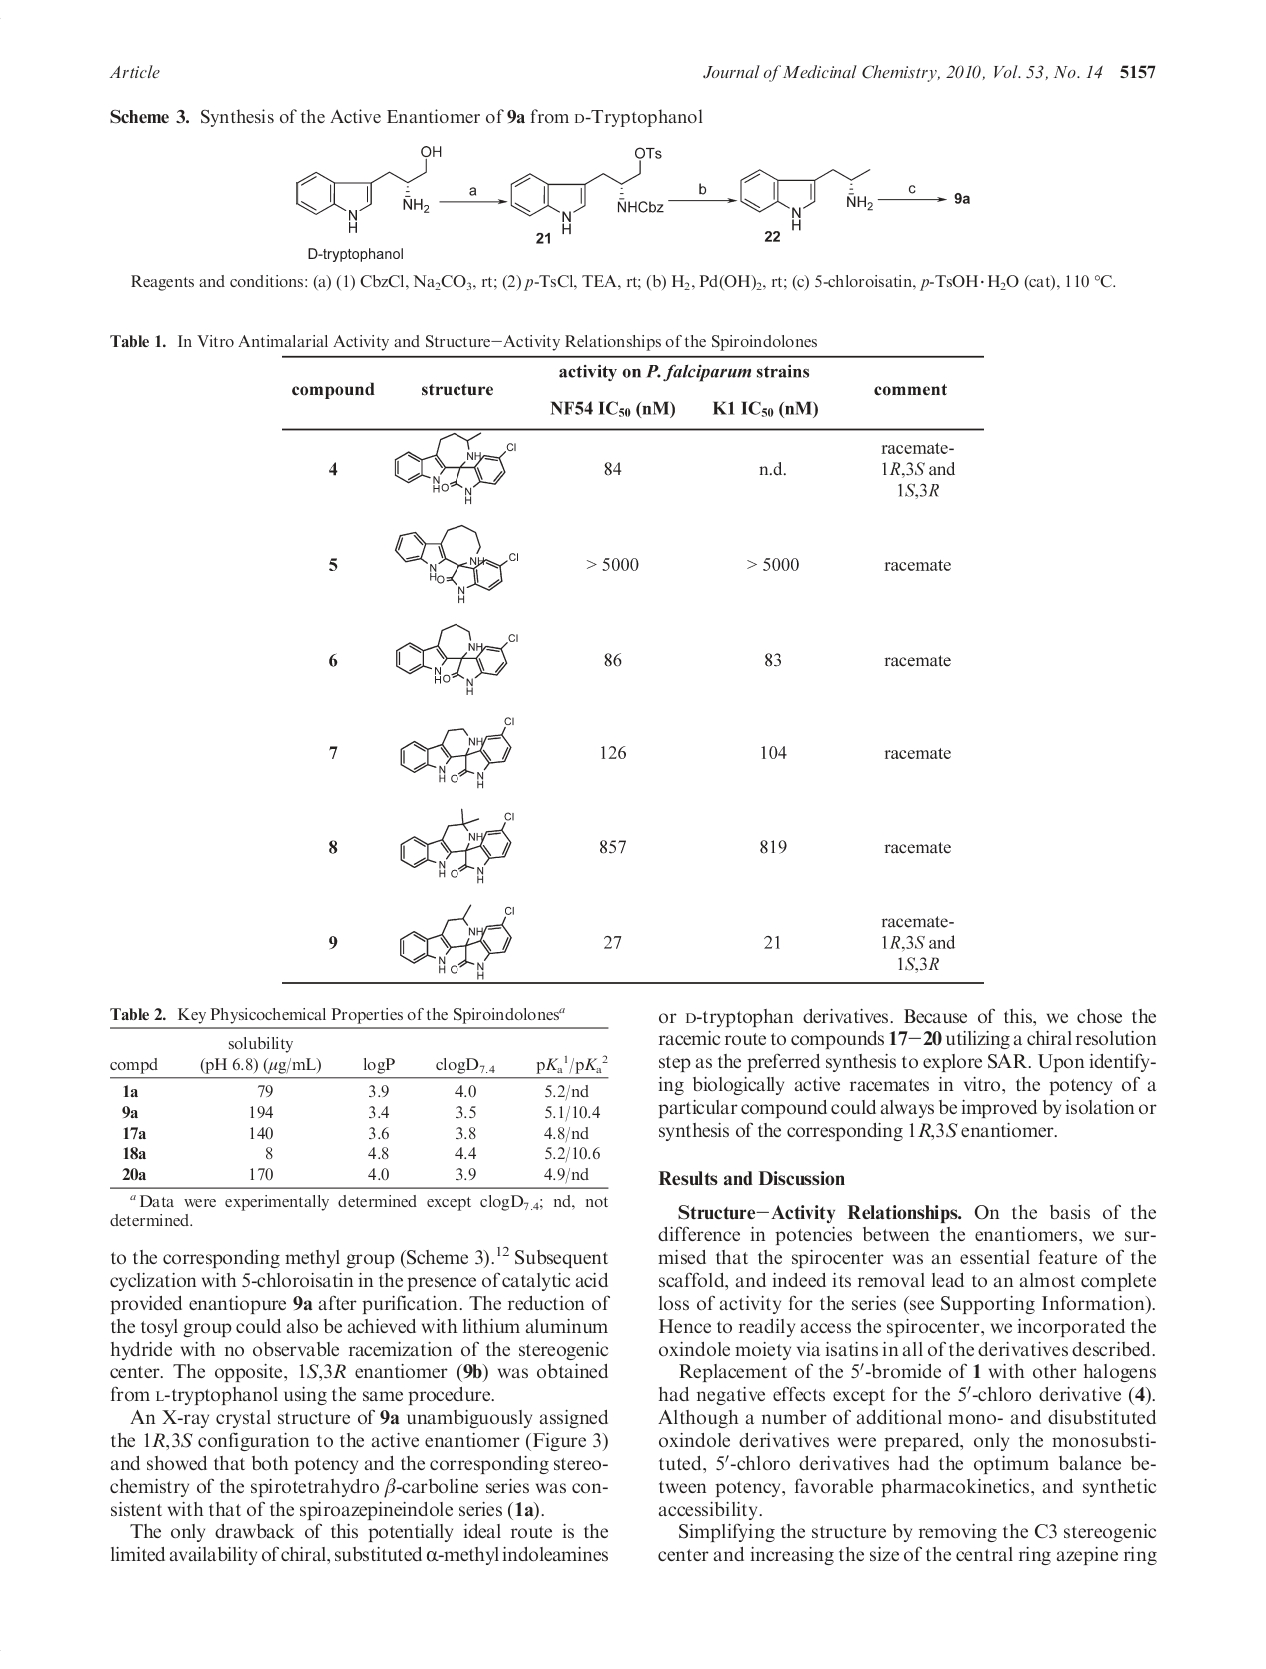exist_molecular: (508, 144, 666, 237), (294, 140, 445, 237), (394, 525, 523, 606), (399, 711, 519, 793), (399, 806, 515, 886), (399, 902, 519, 979), (739, 164, 875, 231), (395, 622, 519, 696), (394, 431, 519, 503)
